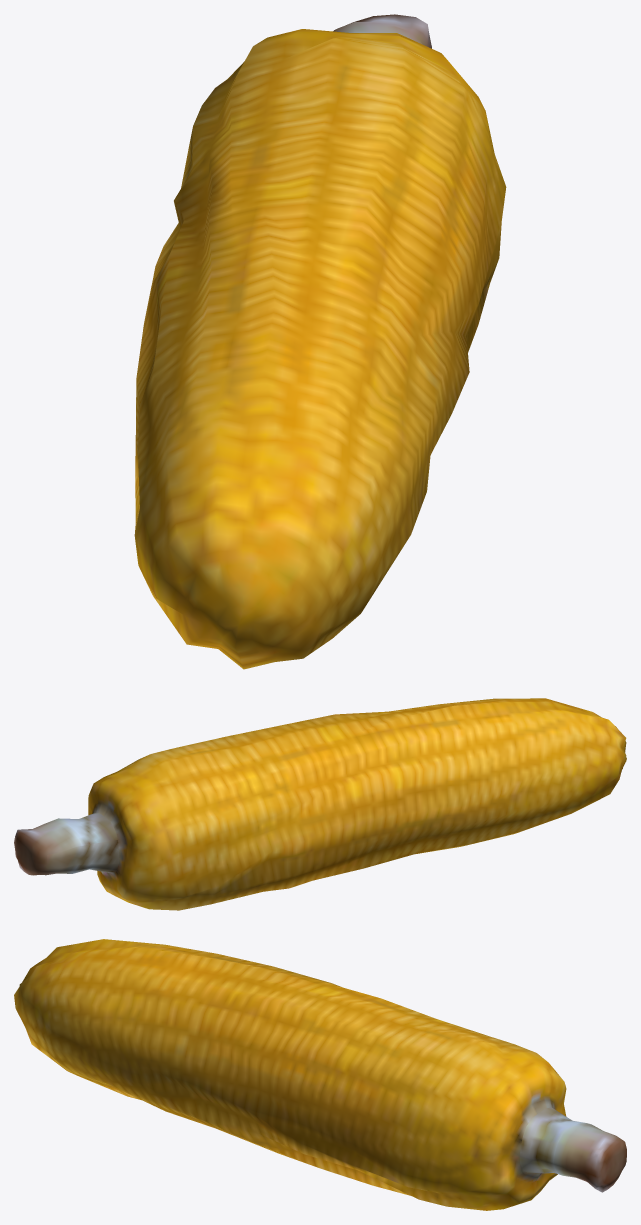
The model's file is Corn.obj.
The picture shows the model from 3 angles, top to bottom: view 1: azimuth 30°, elevation 25°; view 2: azimuth 150°, elevation 25°; view 3: azimuth 270°, elevation 25°; orthographic projection. The views are drawn at different scales.
Parts seen in each view (by area): view 1: SM_corn__SM_corn_0; view 2: SM_corn__SM_corn_0; view 3: SM_corn__SM_corn_0.
Part boxes in pixels (bbox=[...]): SM_corn__SM_corn_0: bbox=[134, 14, 506, 669]; SM_corn__SM_corn_0: bbox=[14, 698, 626, 910]; SM_corn__SM_corn_0: bbox=[14, 939, 626, 1210].
Bounding box in the file's own units: 1.66 × 0.631 × 2.13.
